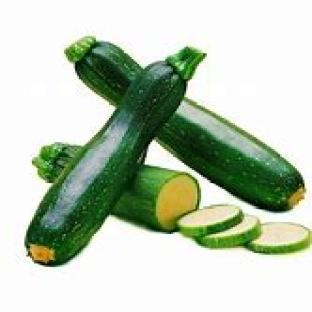Zucchini: (25, 47, 204, 265), (156, 99, 304, 211), (111, 165, 201, 232), (177, 205, 242, 237), (247, 222, 310, 254), (198, 215, 261, 247)
